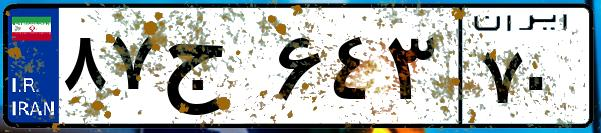0: (525, 38, 570, 115)
3: (385, 28, 445, 110)
4: (330, 28, 385, 110)
6: (270, 28, 330, 110)
7: (475, 38, 525, 113), (110, 28, 158, 98)
8: (57, 26, 110, 100)
ج: (158, 20, 270, 120)
